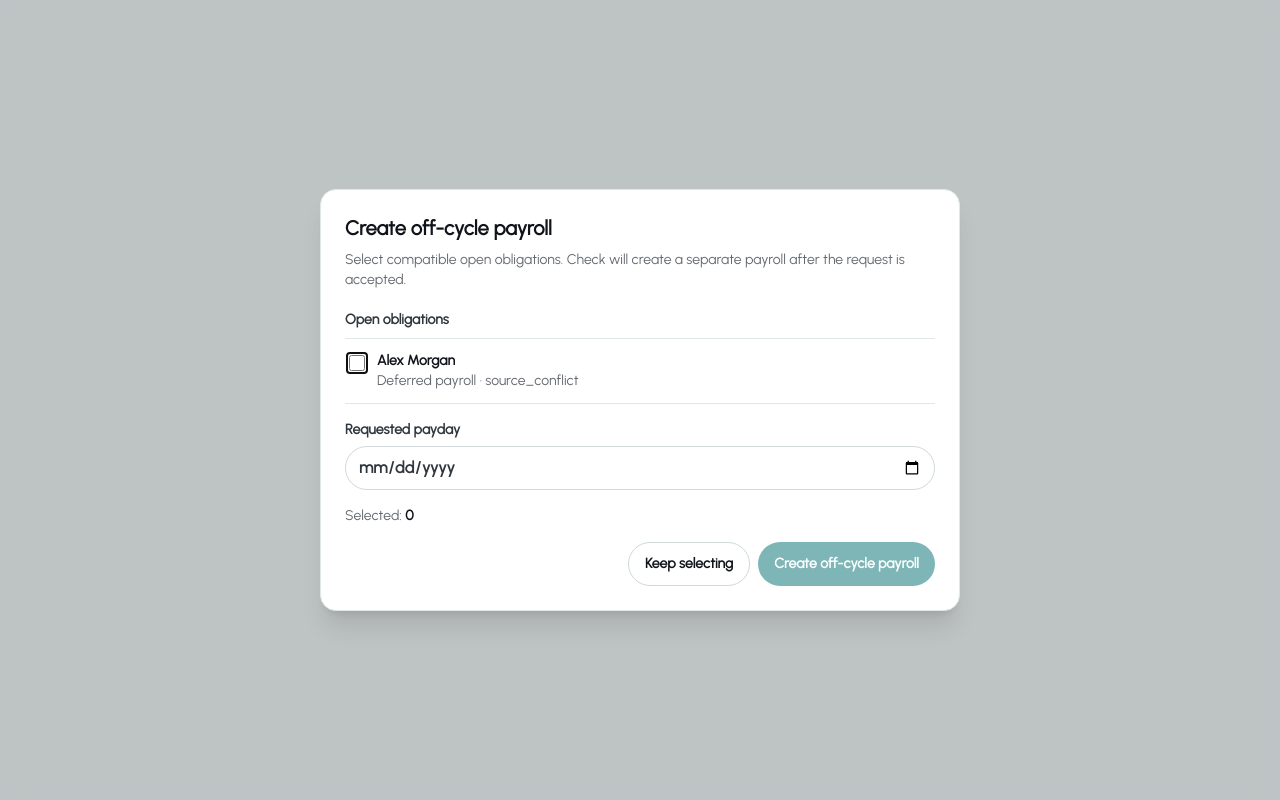
CreateOffCyclePayrollDialog › preserves version-bound selection after a typed error, uses one key per rapid intent, and closes only on acceptance
Later steps or results of the test are not shown.
Click the checkbox labelled "Alex Morgan".
click(357, 363)  # box [349,355,365,371]
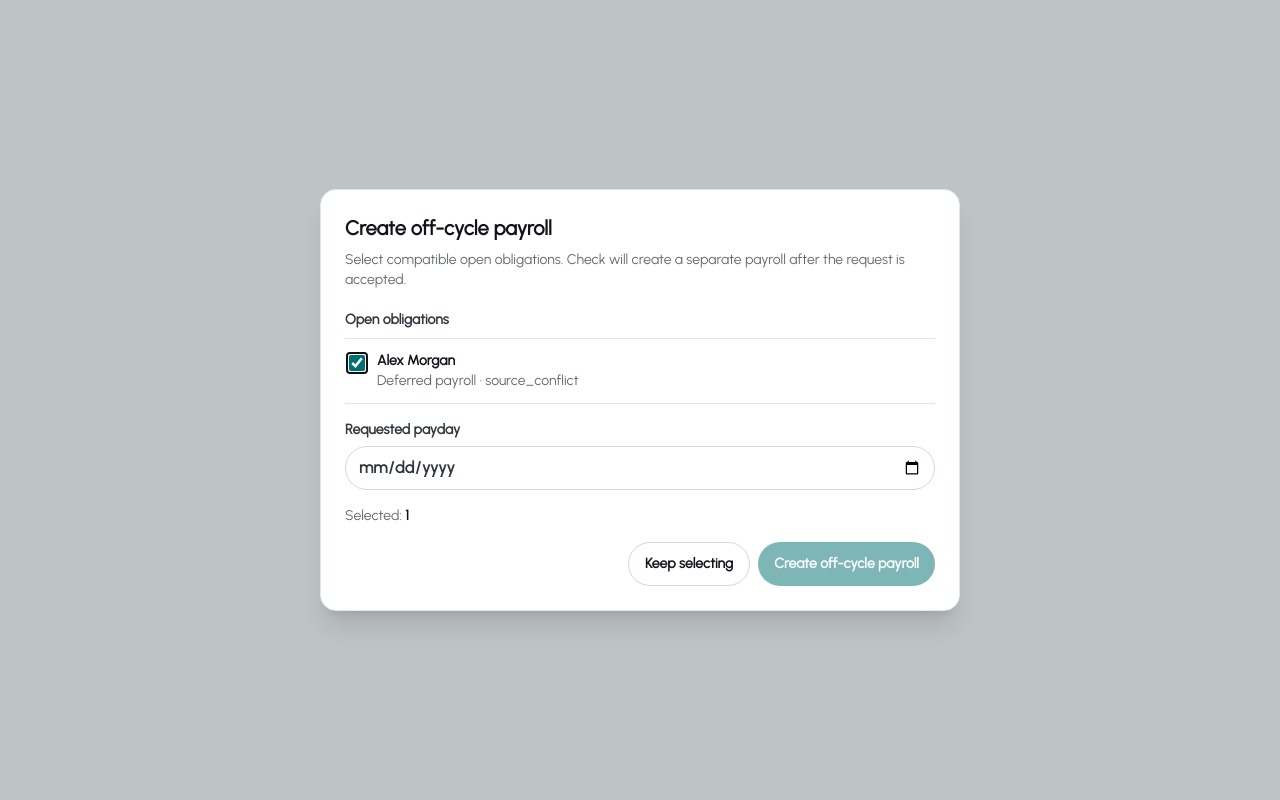
Type "2026-09-04" into the date field labelled "Requested payday".
click(640, 468); type("2026-09-04")  # box [345,446,935,490]
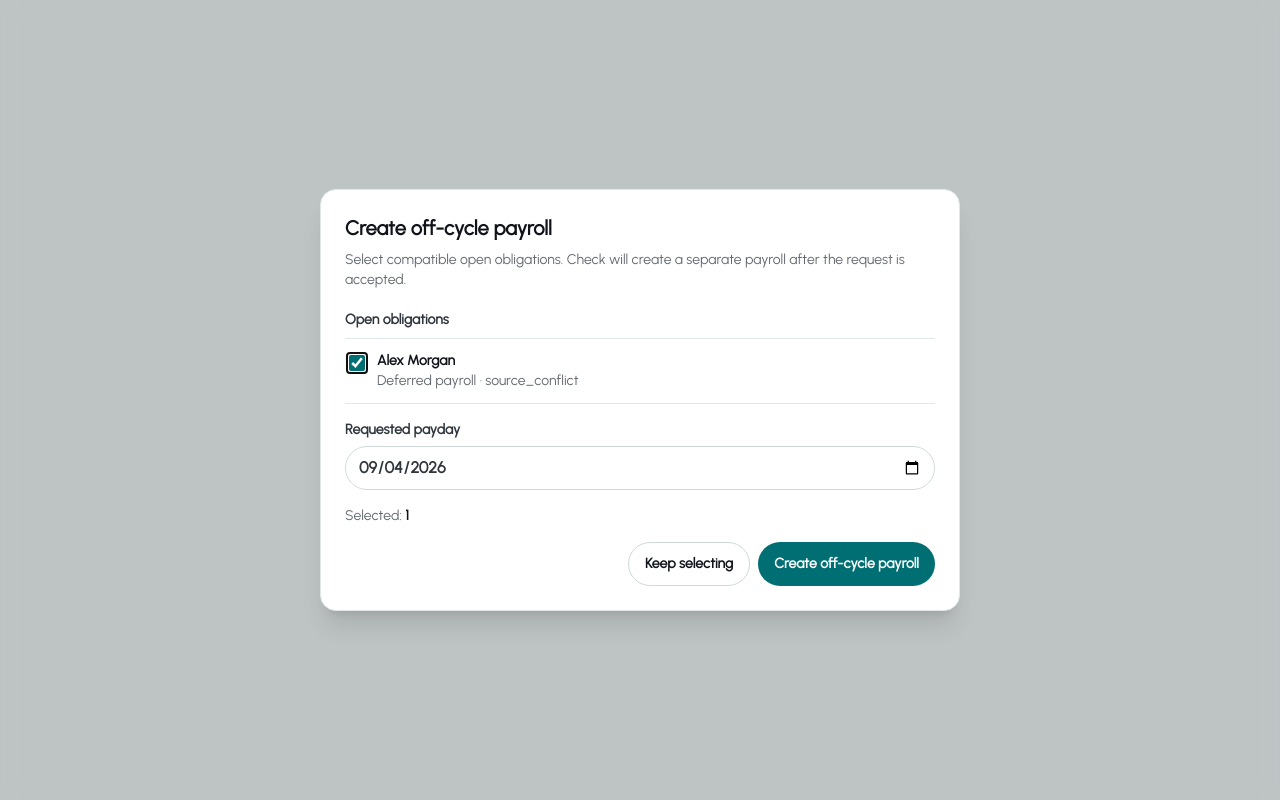
Click the button "Create off-cycle payroll".
click(847, 564)  # box [758,542,935,586]
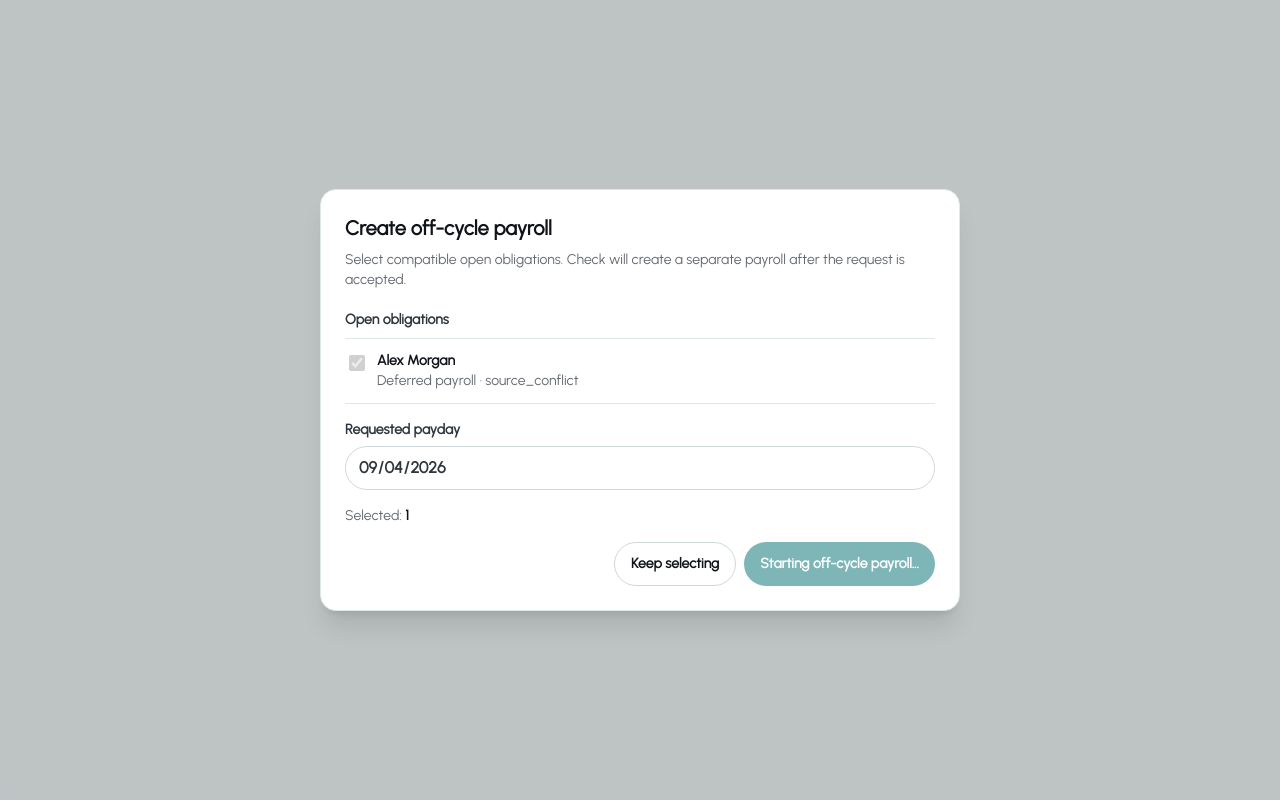
Click the button named "Create off-cycle payroll".
click(840, 564)  # box [744,542,935,586]
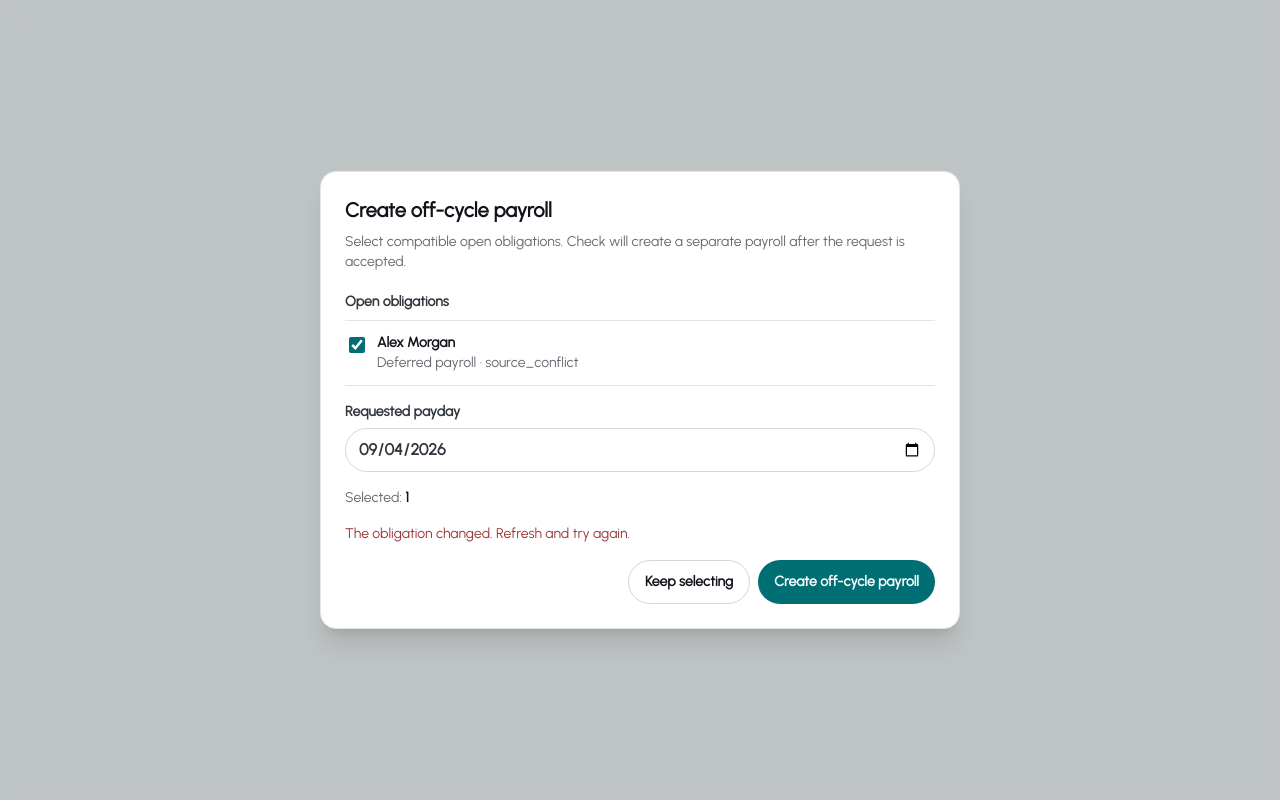
expect the checkbox labelled "Alex Morgan" is checked: met, box [349,337,365,353]
expect the message shows "obligation changed": met, box [345,525,630,542]
